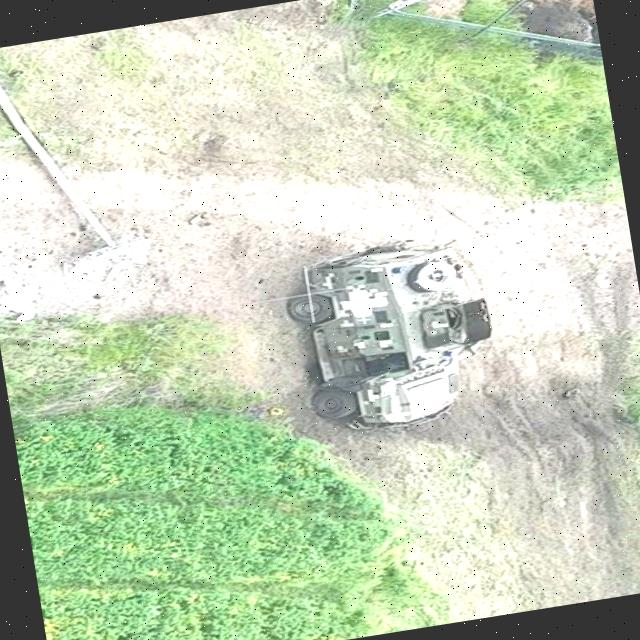Vehicle: (284, 232, 510, 441)
